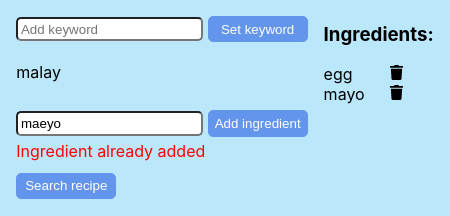
App component › should check if the ingredient egg gets removed from the ingredients list when the trash button is clicked
Click the icon with test id "removeIngredientID" next to "egg" at (396, 73), box 389,65 -> 404,80
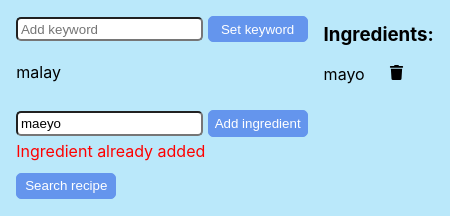
Result: the text with test id "ingredientsListID" no longer shows "egg"
Result: the text "mayo" is shown at 324,64 -> 365,84
